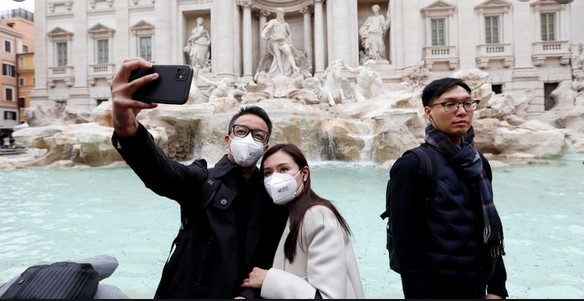face_no_mask: (422, 78, 474, 133)
face_with_mask: (261, 143, 309, 208), (225, 105, 266, 168)
